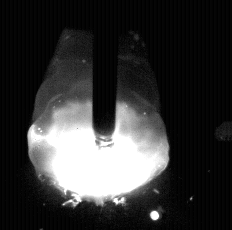arame: (93, 0, 117, 142)
poca: (28, 0, 170, 230)
